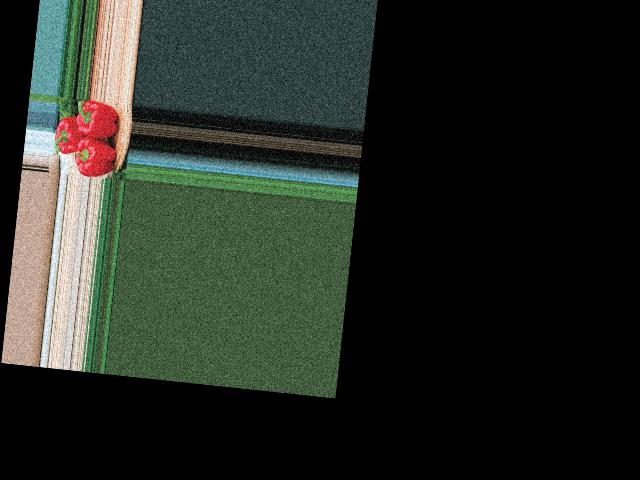bell_pepper: (73, 99, 125, 145)
